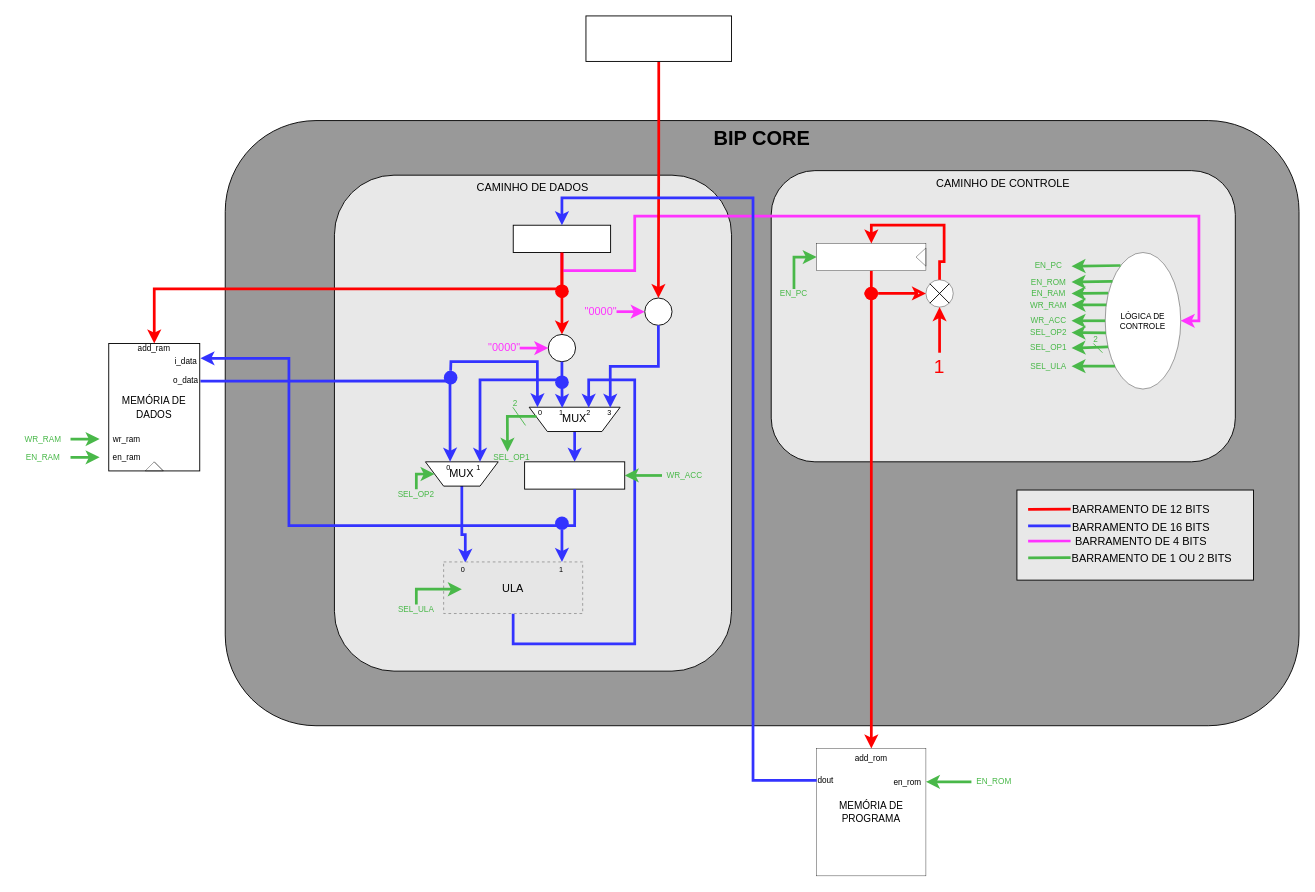
The diagram is 1315 pixels wide and 892 high, and some of its shapes have lost their labels. Grey dashed boxes stand in for pictures. Here are the shapes that lost their labels. From the top down, the centre of each, then its label:
At (x=658, y=38): "Botões 11~0".
At (x=561, y=238): "IR".
At (x=871, y=256): "PC".
At (x=574, y=475): "ACC".
